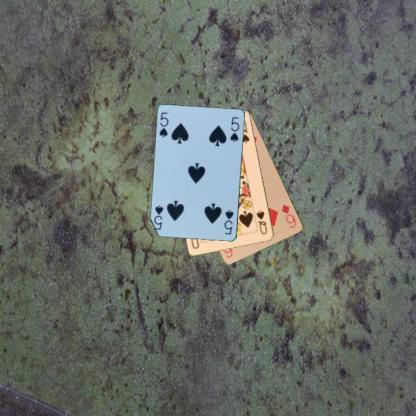5s: (156, 110, 170, 138), (222, 207, 234, 236)
6d: (280, 202, 298, 229)
Qs: (254, 208, 269, 236)
